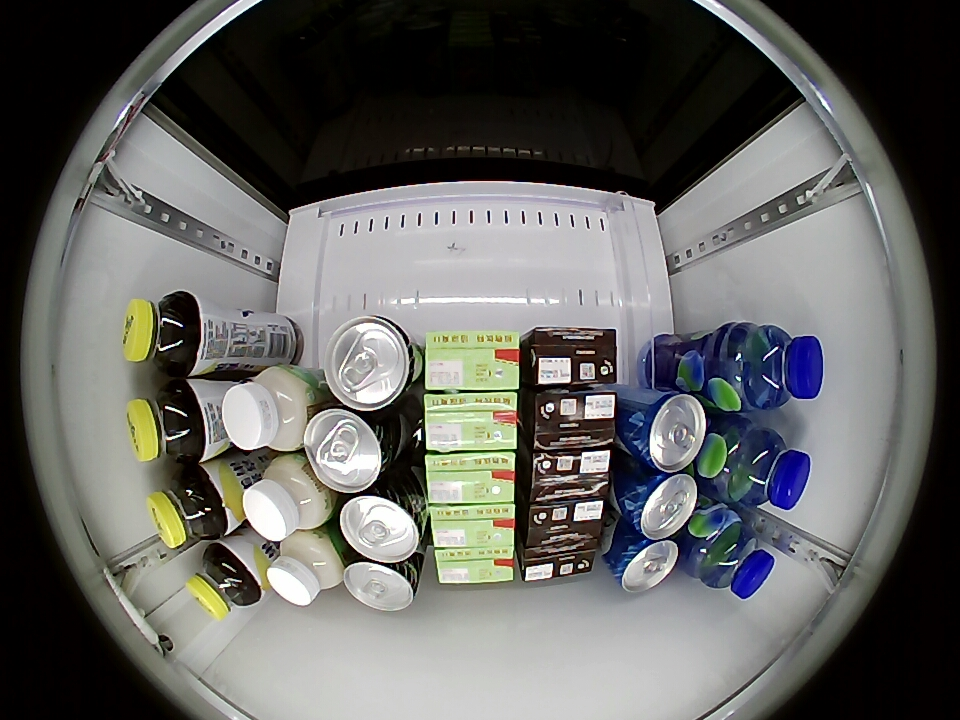chacui: (147, 466, 229, 548), (122, 291, 201, 376), (126, 380, 204, 464), (186, 541, 261, 620)
maidong: (728, 324, 824, 410), (721, 426, 811, 510), (690, 514, 776, 599)
qingdaowangzi-1: (322, 315, 423, 410), (304, 405, 400, 492), (338, 484, 425, 562), (343, 554, 423, 612)
qingdaowangzi-2: (626, 392, 708, 472), (620, 470, 699, 539), (609, 533, 679, 593)
wanglaoji: (422, 391, 520, 452), (425, 330, 521, 392), (425, 451, 517, 505), (429, 503, 517, 550), (433, 544, 517, 586)
weitanai2: (523, 327, 617, 388), (529, 390, 617, 450), (528, 448, 612, 502), (524, 497, 606, 547), (519, 538, 597, 583)
yousuanru: (222, 365, 313, 453), (243, 455, 333, 541), (266, 530, 345, 607)
